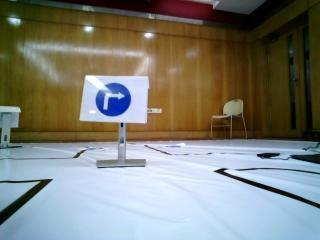right: (80, 70, 147, 124)
